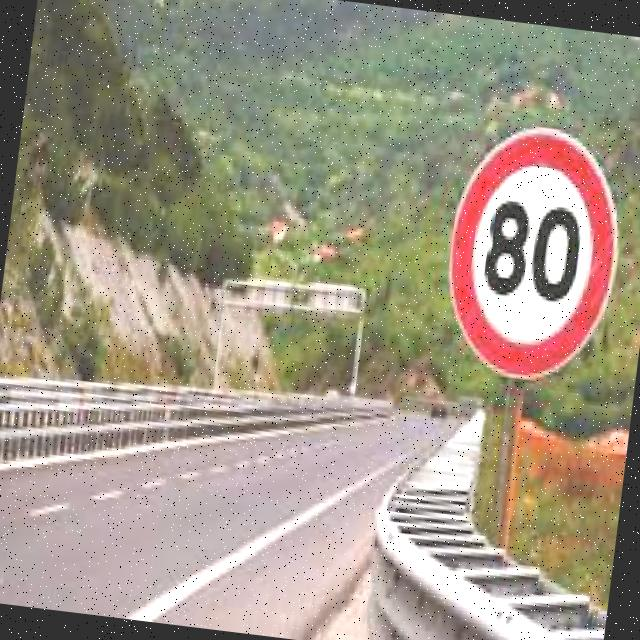Ograniczenie predkosci do 80: (435, 117, 637, 386)
